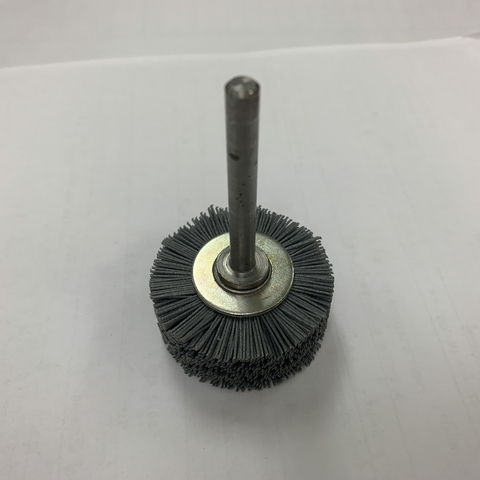Wheel Brush: (143, 65, 346, 390), (88, 163, 335, 399), (182, 77, 366, 382), (136, 153, 365, 388)
